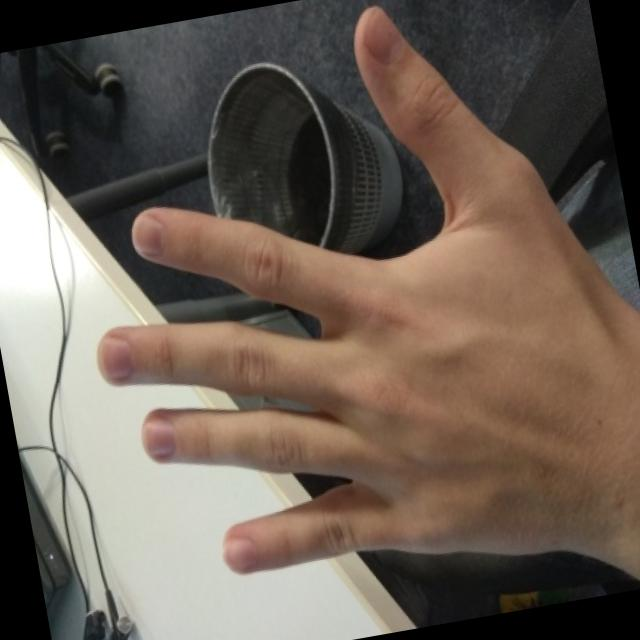Nail: (364, 6, 406, 59), (101, 335, 131, 378), (134, 213, 165, 254), (146, 414, 175, 454), (224, 536, 256, 569)
